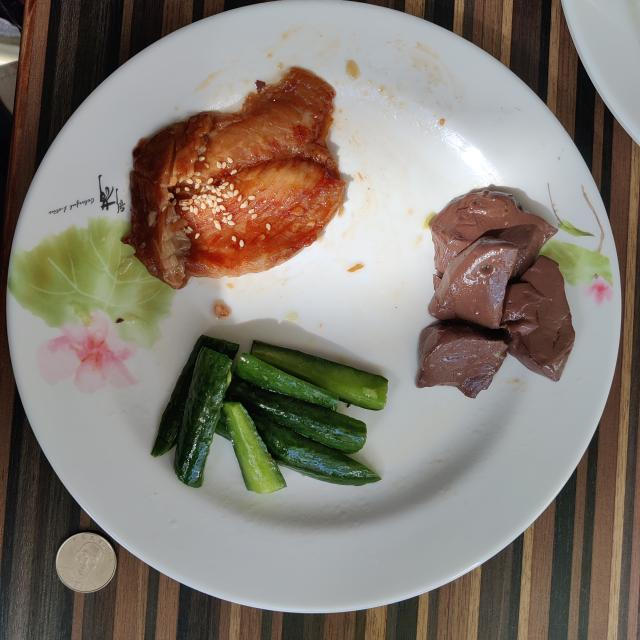Kabayaki sea bream fillet: (126, 68, 345, 289)
coin: (56, 532, 116, 592)
cucumber: (151, 335, 388, 492)
pig blood curd: (416, 190, 575, 398)
